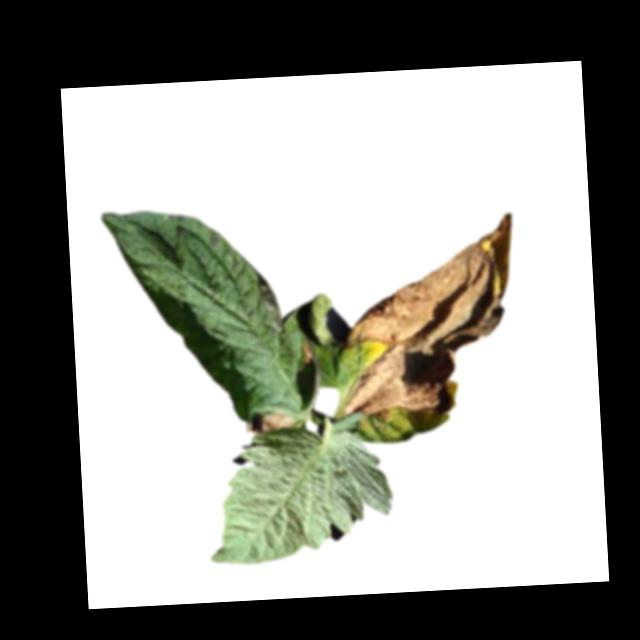Late_blight: (325, 211, 522, 426), (254, 269, 284, 335), (243, 408, 297, 436), (296, 339, 317, 366)
